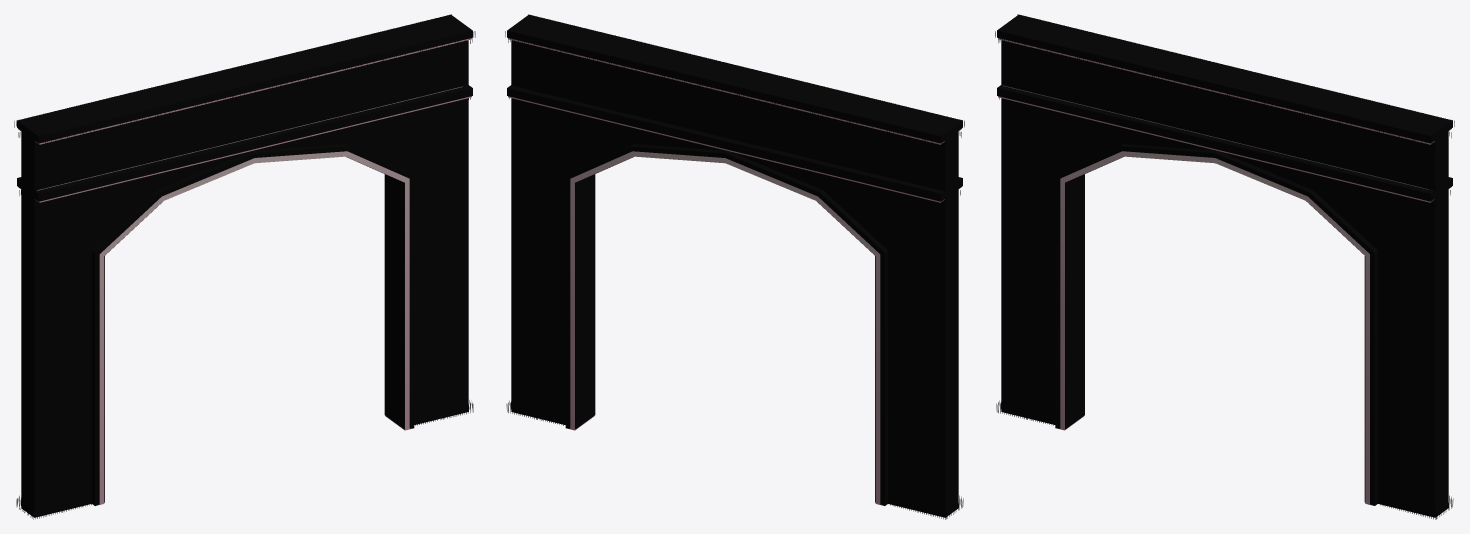
The model's file is Arc.glb.
The picture shows the model from 3 angles, left to right: view 1: azimuth 30°, elevation 25°; view 2: azimuth 150°, elevation 25°; view 3: azimuth 330°, elevation 25°; orthographic projection.
Parts seen in each view (by area): view 1: Arc; view 2: Arc; view 3: Arc.
Boxes of the visible parts, box(x1,y1,x2,y2) form: Arc: box(14, 14, 475, 519); Arc: box(505, 14, 964, 519); Arc: box(995, 14, 1454, 519).
Bounding box in the file's own units: 4.24 × 3.55 × 0.3863.
Materials: 3 (2 with a texture image).
